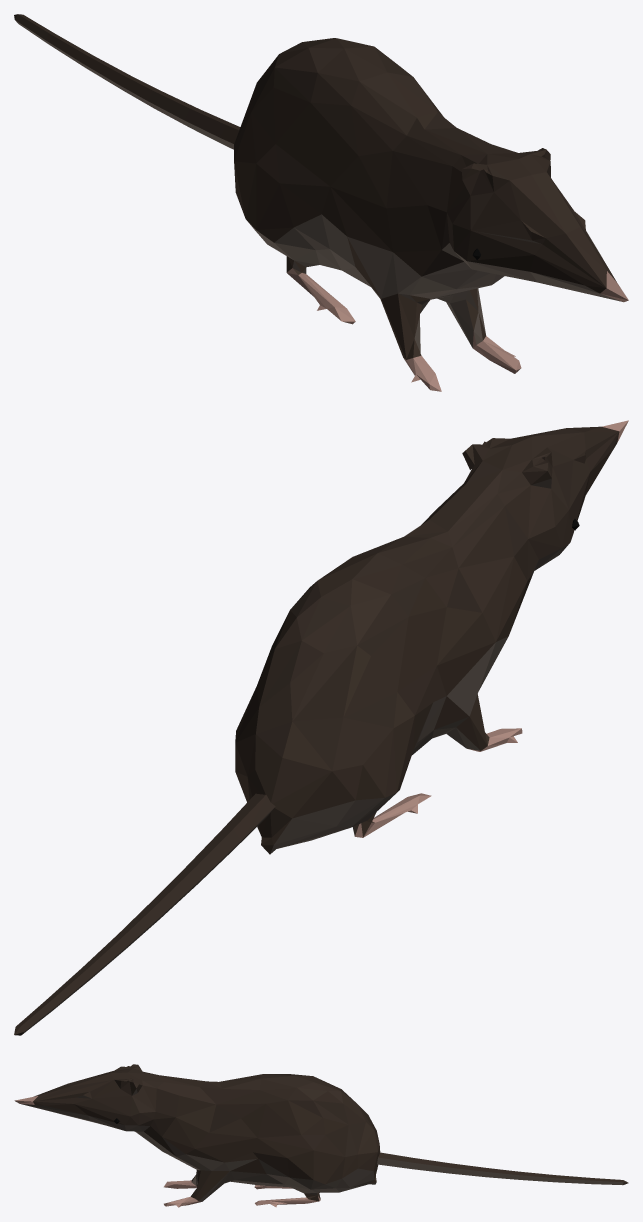
The model's file is montane_shrew.glb.
The picture shows the model from 3 angles, top to bottom: view 1: azimuth 30°, elevation 25°; view 2: azimuth 150°, elevation 25°; view 3: azimuth 270°, elevation 25°; orthographic projection. The views are drawn at different scales.
Parts seen in each view (by area): view 1: lod0; view 2: lod0; view 3: lod0.
Boxes of the visible parts, left/top/right/bottom form: lod0: left=14, top=14, right=628, bottom=391; lod0: left=14, top=420, right=628, bottom=1035; lod0: left=14, top=1064, right=628, bottom=1207.
Size of what is drawn, in the model's own units: 0.0146 by 0.025 by 0.1109.
